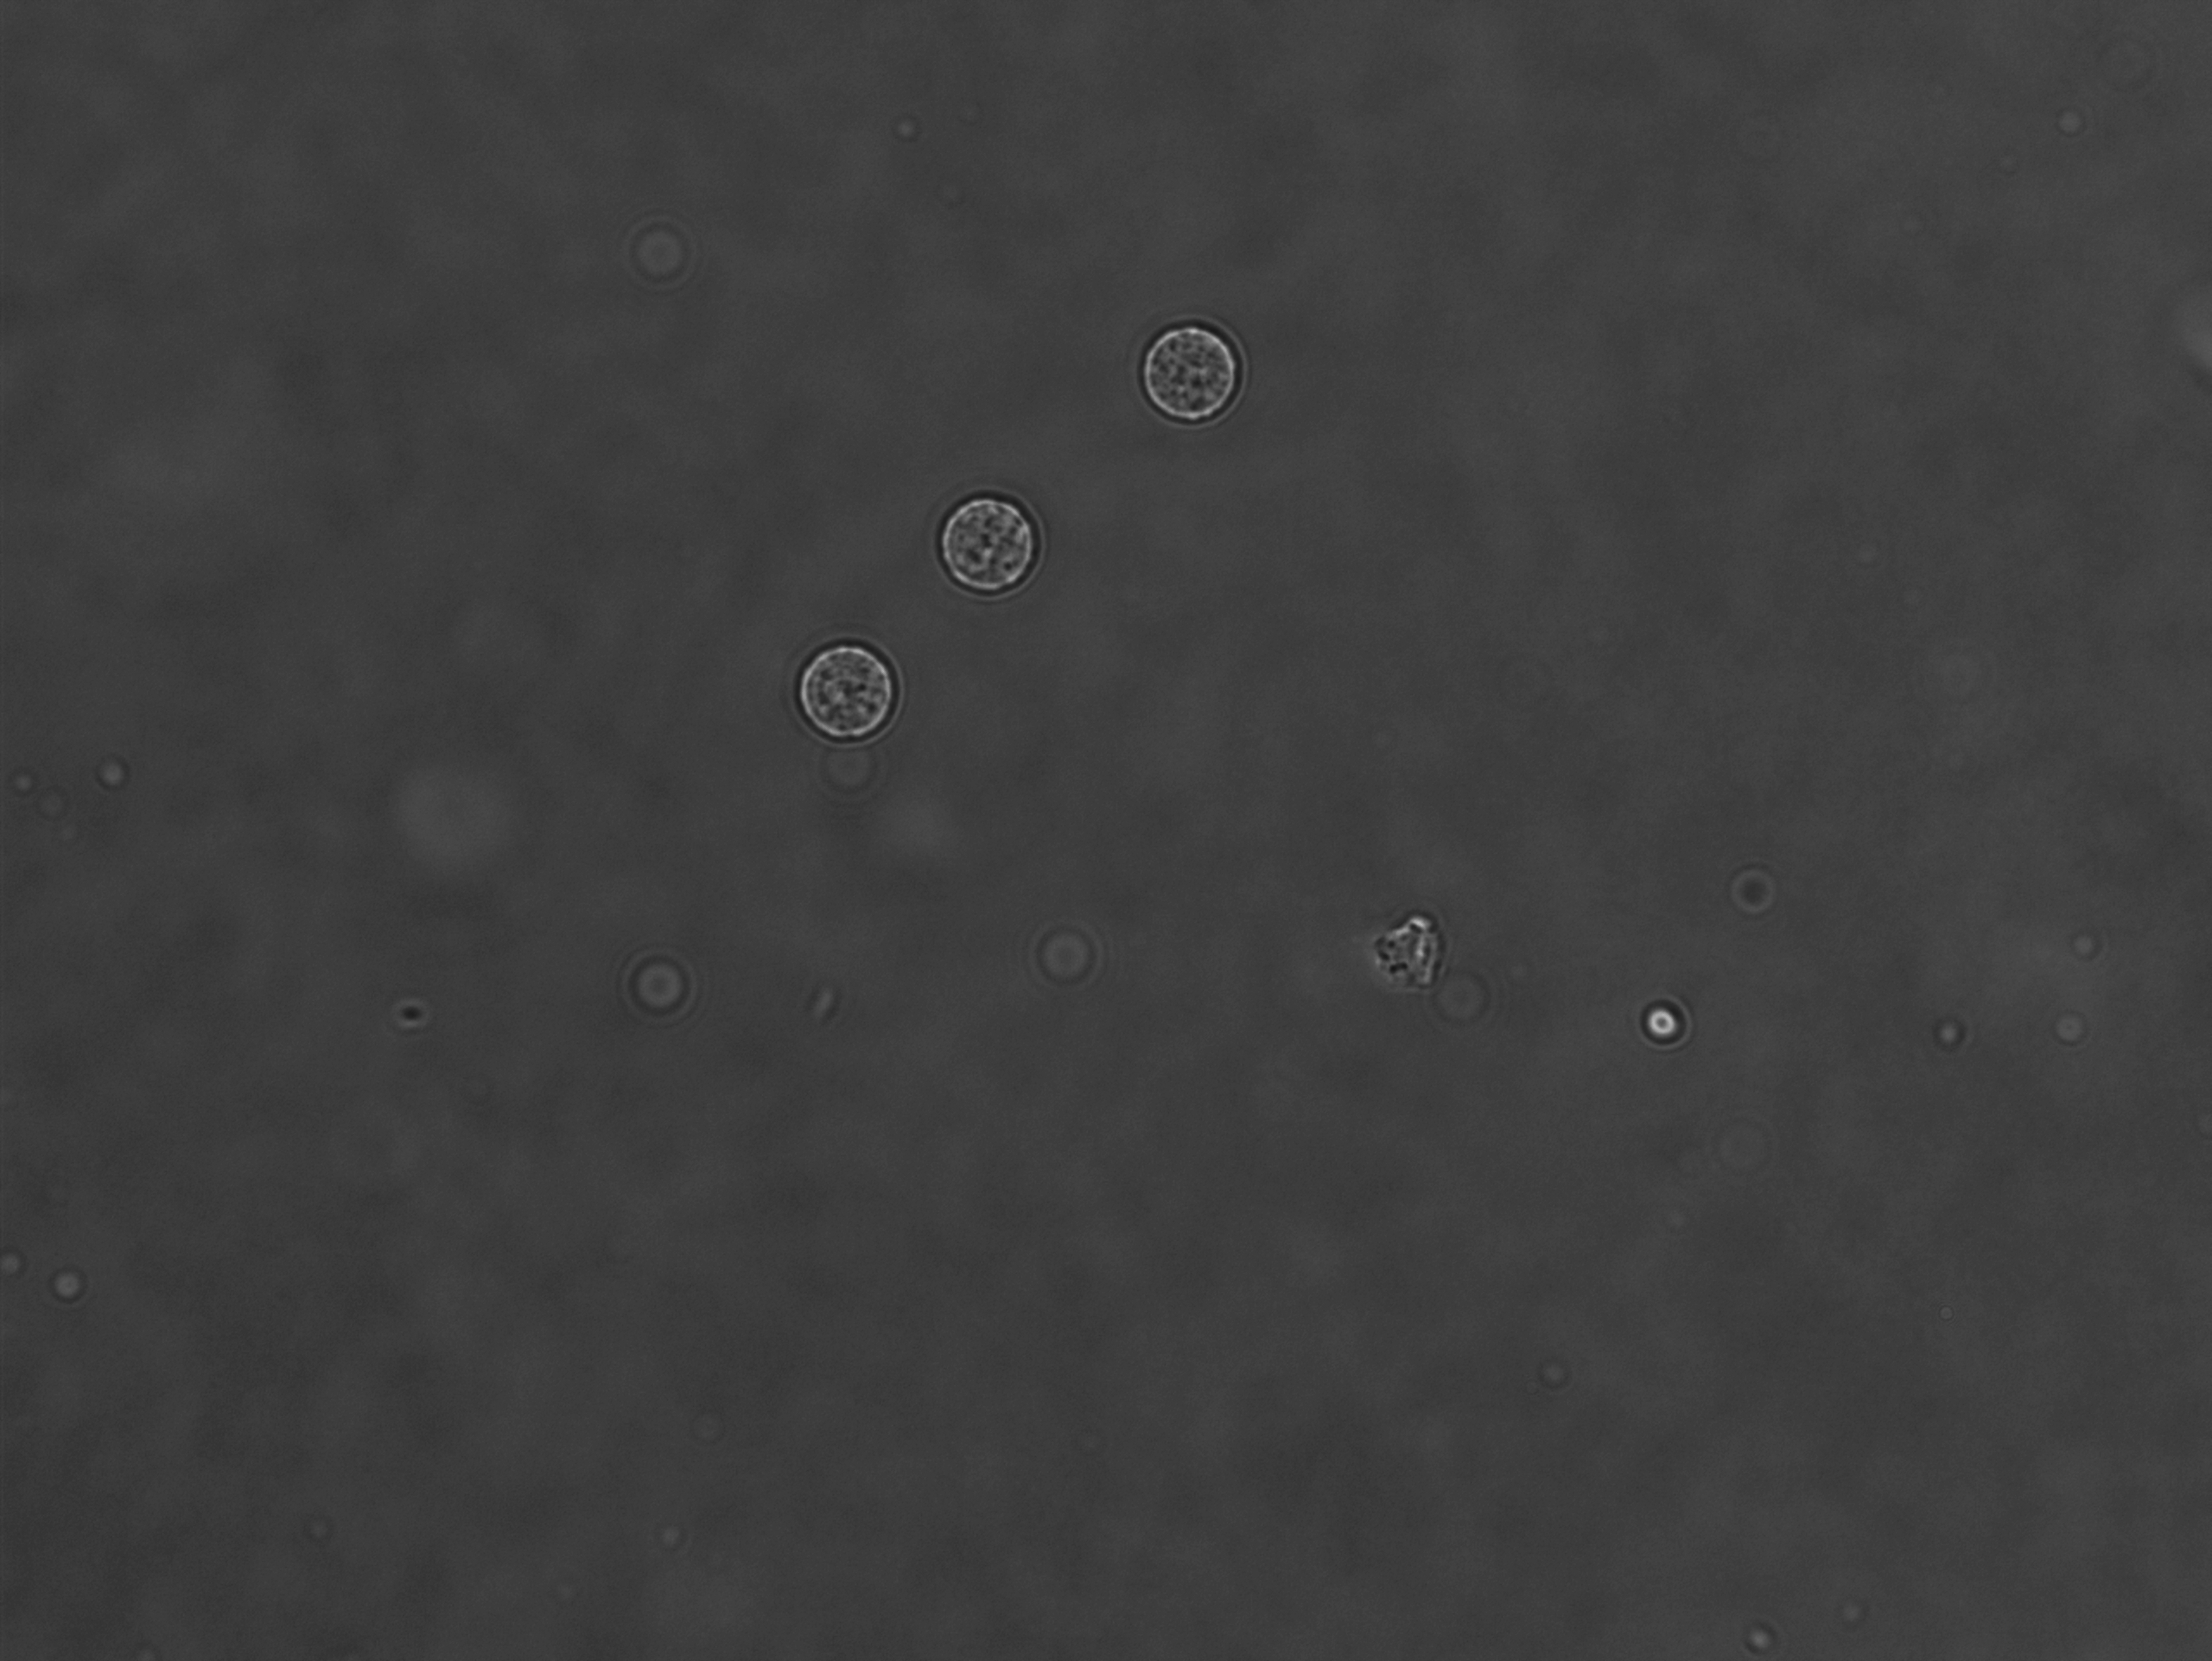depth:0: (1122, 302, 1261, 459), (919, 461, 1052, 611), (783, 625, 923, 752)
